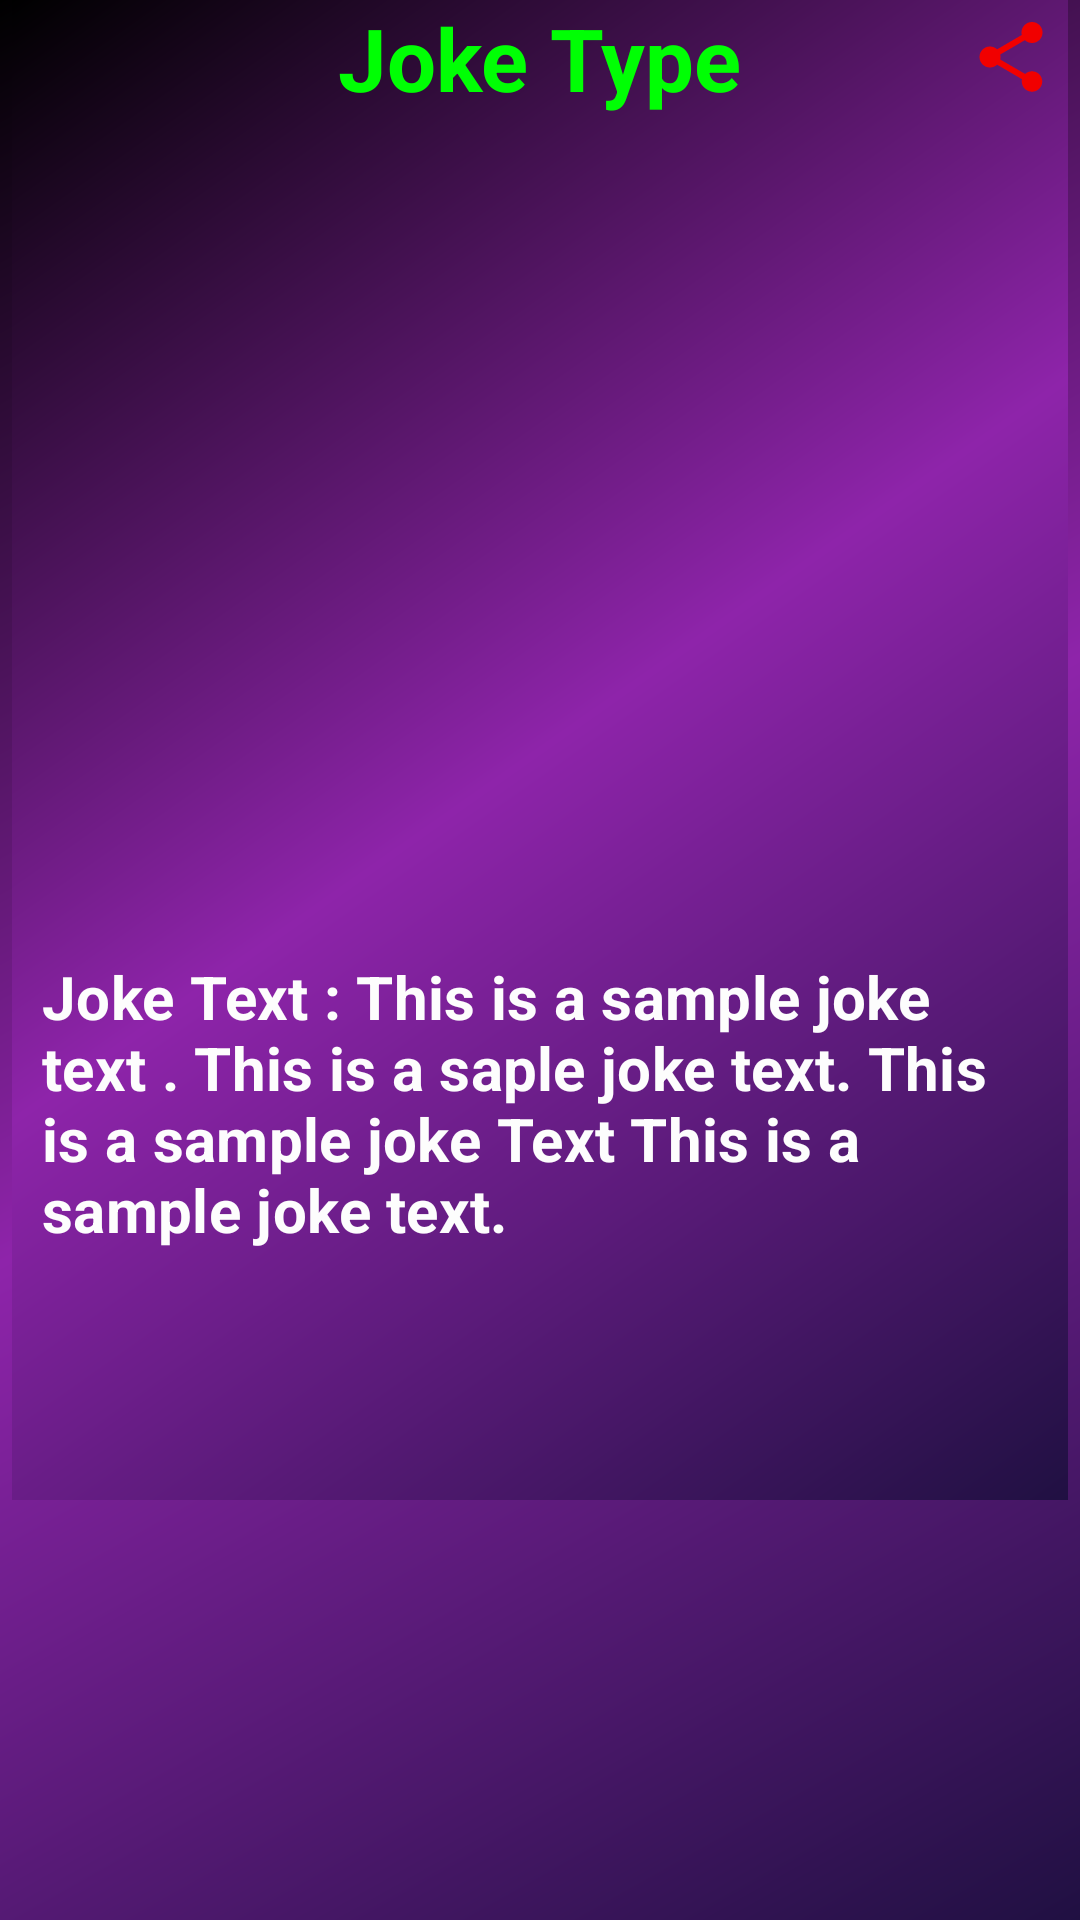

Named icons in this screenshot (1080×1920) and their centers, (x,y):
share: (1011,57)
